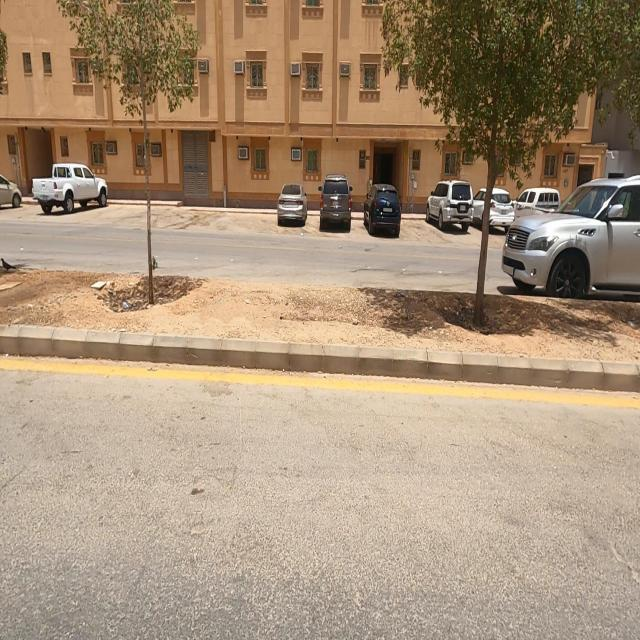debris: (60, 248, 162, 348)
